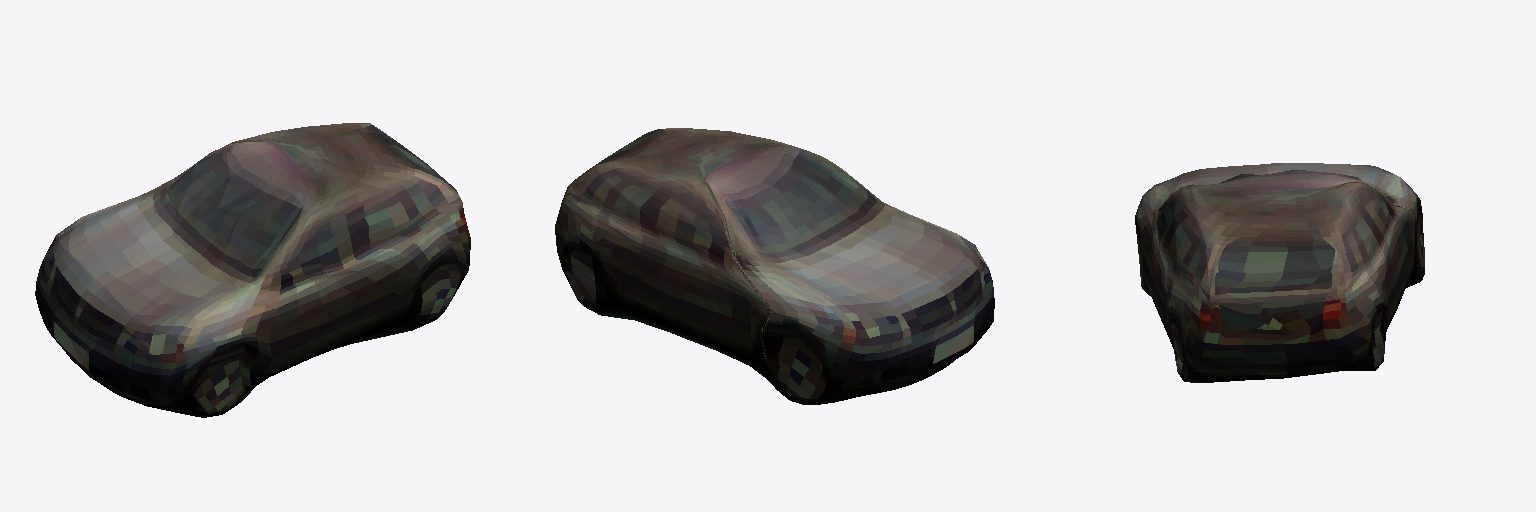
3 renders of one model, left to right at view 1: azimuth 30°, elevation 25°; view 2: azimuth 150°, elevation 25°; view 3: azimuth 270°, elevation 25°, orthographic.
Bounding box in the file's own units: 1 × 0.4491 × 0.6734.
Materials: 1 (1 with a texture image).